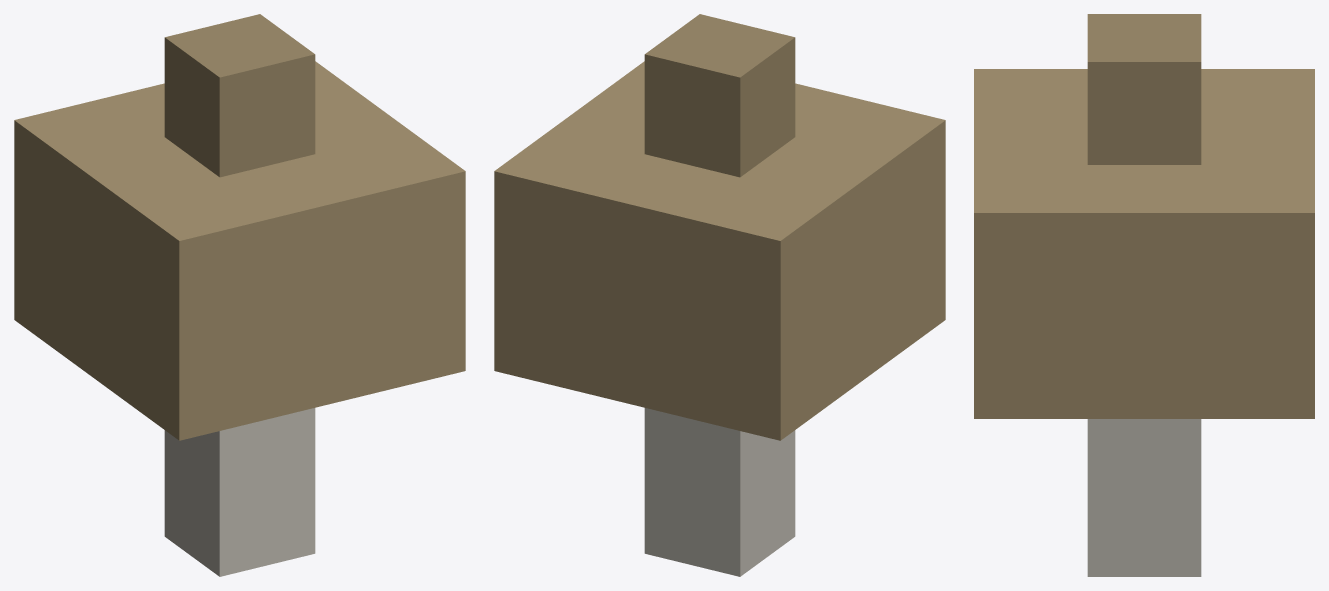
Rendered from colmenilla_02.glb.
The picture shows the model from 3 angles, left to right: view 1: azimuth 30°, elevation 25°; view 2: azimuth 150°, elevation 25°; view 3: azimuth 270°, elevation 25°; orthographic projection. The views are drawn at different scales.
Visible parts, largest first — view 1: colmenilla_02; view 2: colmenilla_02; view 3: colmenilla_02.
Part boxes in pixels (box(x1,y1,x2,y2)): colmenilla_02: box(14, 14, 465, 576); colmenilla_02: box(494, 14, 945, 576); colmenilla_02: box(974, 14, 1314, 576).
Size of the model in its own units: 0.3 by 0.5 by 0.3.
